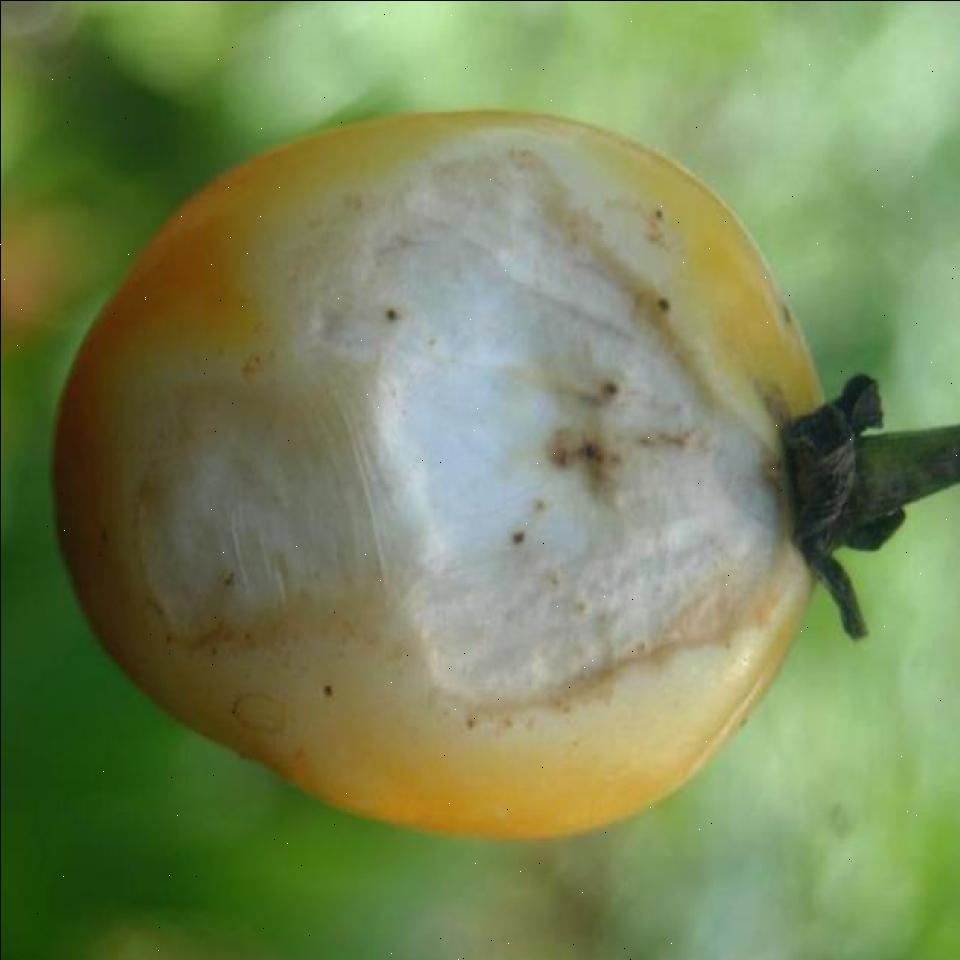Sunscald: (134, 124, 800, 721)
